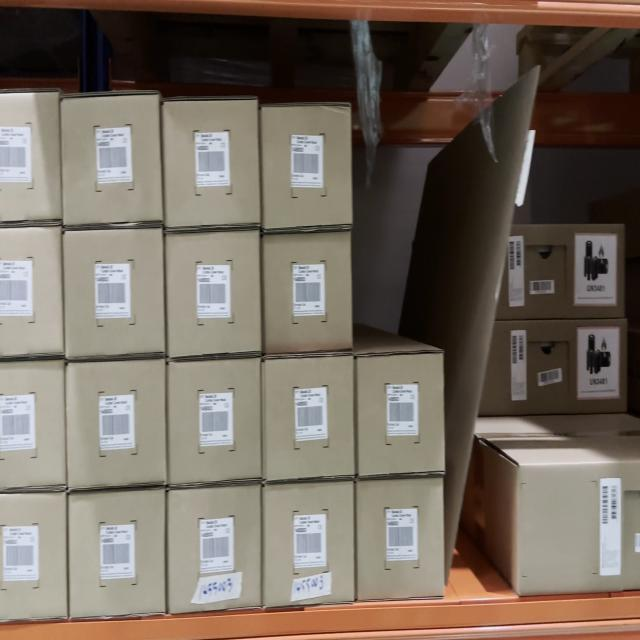box: (65, 228, 161, 356), (68, 360, 164, 488), (166, 98, 260, 228), (63, 94, 158, 222), (70, 492, 166, 618), (168, 357, 261, 482), (164, 232, 262, 350), (263, 354, 353, 479), (166, 488, 261, 606), (263, 105, 353, 227), (262, 487, 355, 601), (263, 233, 353, 348), (356, 480, 442, 600), (356, 356, 443, 472)
